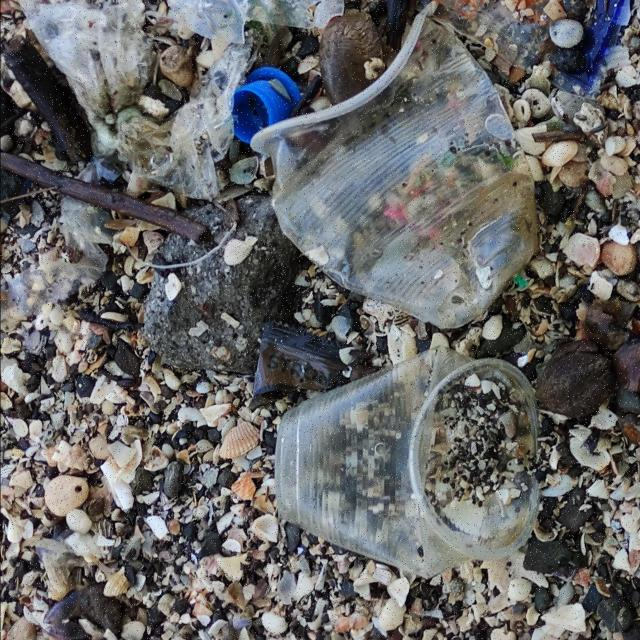plastic_waste: (256, 30, 549, 333), (277, 344, 547, 581)
